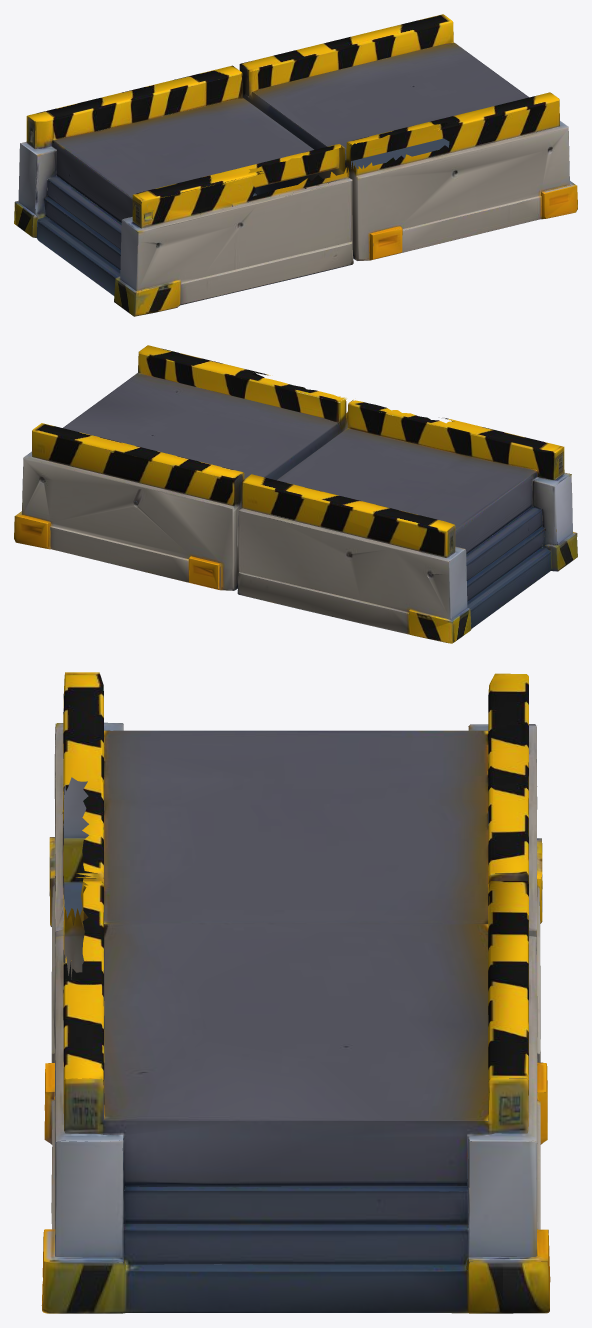
File: loading_dock.glb
3 views of the same model, one above another, from view 1: azimuth 30°, elevation 25°; view 2: azimuth 150°, elevation 25°; view 3: azimuth 270°, elevation 25° (orthographic). The views are drawn at different scales.
Parts seen in each view (by area): view 1: Industrial_loading_dock; view 2: Industrial_loading_dock; view 3: Industrial_loading_dock.
Boxes of the visible parts, x1,y1,x2,y2 form: Industrial_loading_dock: (14,14,577,316); Industrial_loading_dock: (14,345,577,643); Industrial_loading_dock: (41,672,550,1313).
Size of the model in its own units: 4 by 0.9793 by 2.
Materials: 1 (1 with a texture image).
